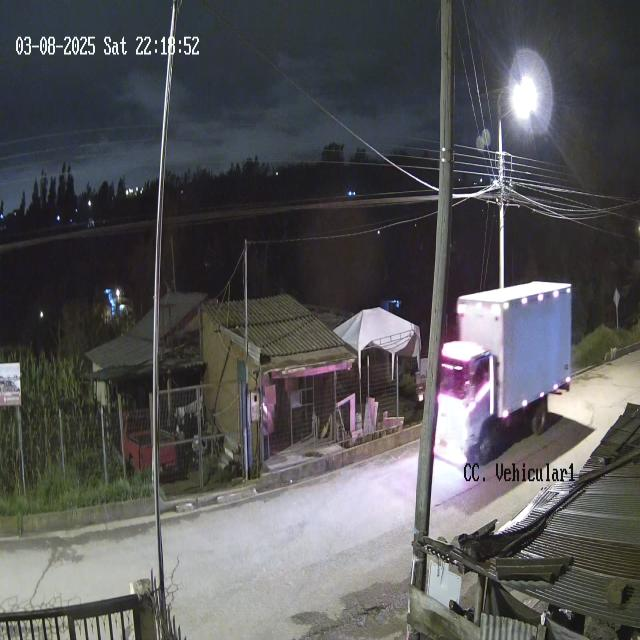TRUCK: (432, 277, 573, 467)
